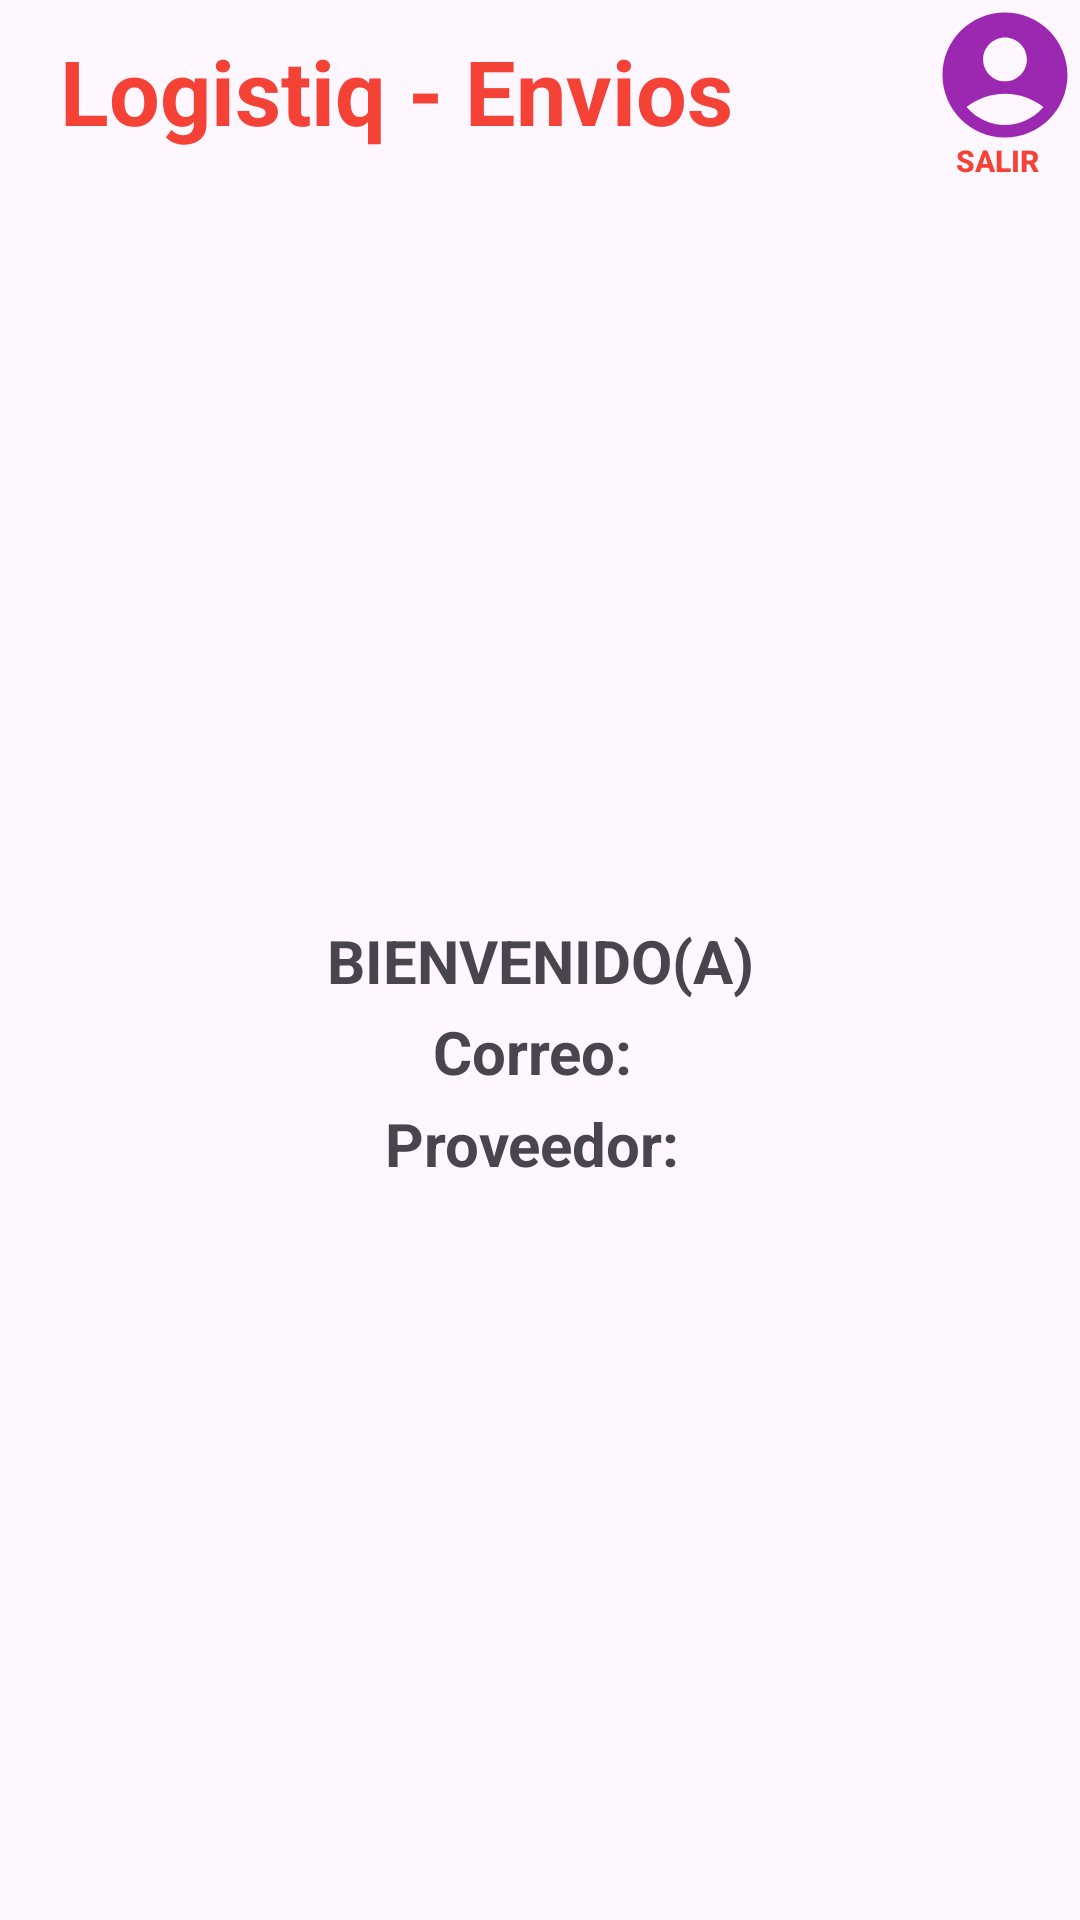

Icons on this 1080w x 1920h Android screen, each with the point to tap as point (x, y):
account circle: point (1005, 75)
